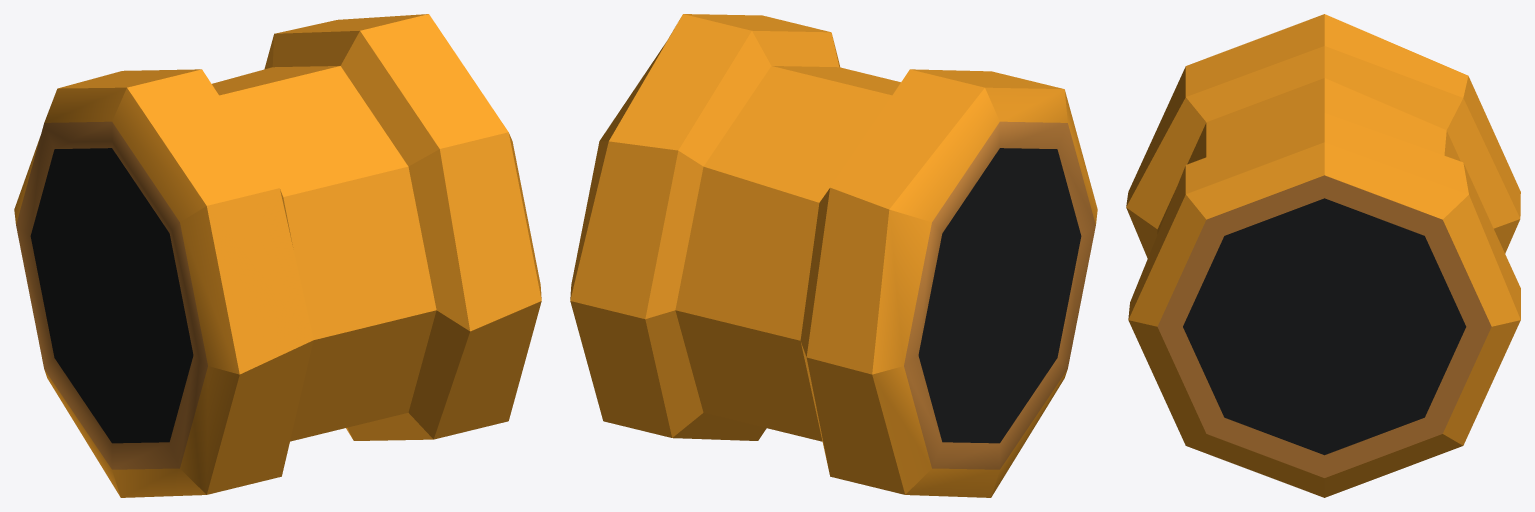
The model's file is SM_Prop_Pipe_01.fbx.
3 views of the same model, side by side, from view 1: azimuth 30°, elevation 25°; view 2: azimuth 150°, elevation 25°; view 3: azimuth 270°, elevation 25° (orthographic). The views are drawn at different scales.
Visible parts, largest first — view 1: SM_Prop_Pipe_01; view 2: SM_Prop_Pipe_01; view 3: SM_Prop_Pipe_01.
Part boxes in pixels (x1=…): SM_Prop_Pipe_01: x1=14, y1=14, x2=541, y2=497; SM_Prop_Pipe_01: x1=570, y1=14, x2=1097, y2=497; SM_Prop_Pipe_01: x1=1126, y1=14, x2=1520, y2=497.
Bounding box in the file's own units: 100 × 117 × 118.
